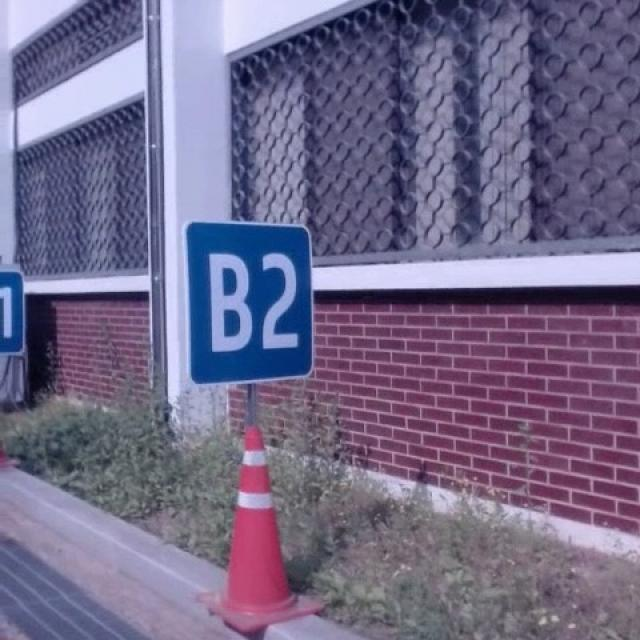b2: (179, 217, 317, 392)
